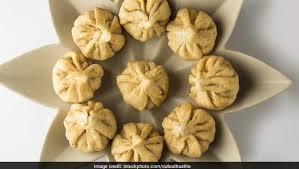modak: (154, 104, 222, 159), (166, 7, 232, 63), (187, 56, 244, 116), (113, 115, 176, 168), (46, 52, 105, 106), (61, 98, 116, 153), (76, 6, 128, 60), (121, 64, 172, 109), (121, 2, 173, 39)
